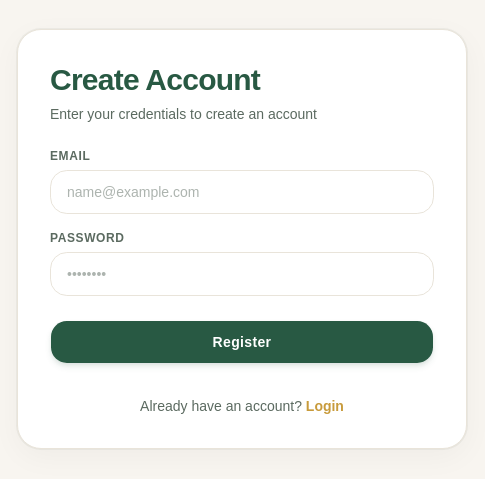
Register Component › shows validation error when password is empty
// Fill only Email
In the field labelled "Email": (242,192) [50,170,434,214], type "john@example.com"
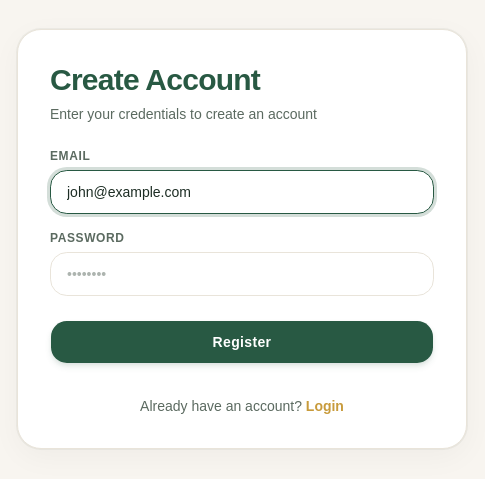
Click the button "Register": (242,342) [50,320,434,364]
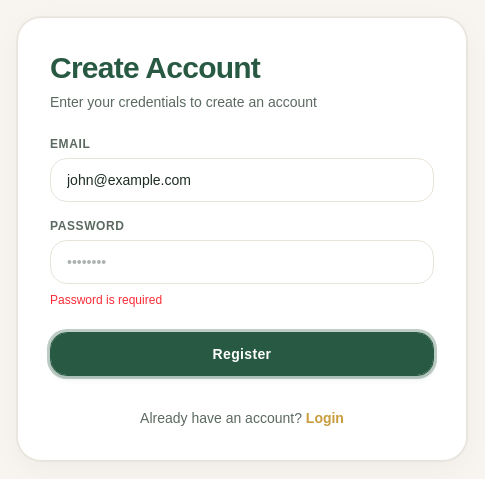
Expected: the text "Password is required" is shown, [50,293,162,307]
